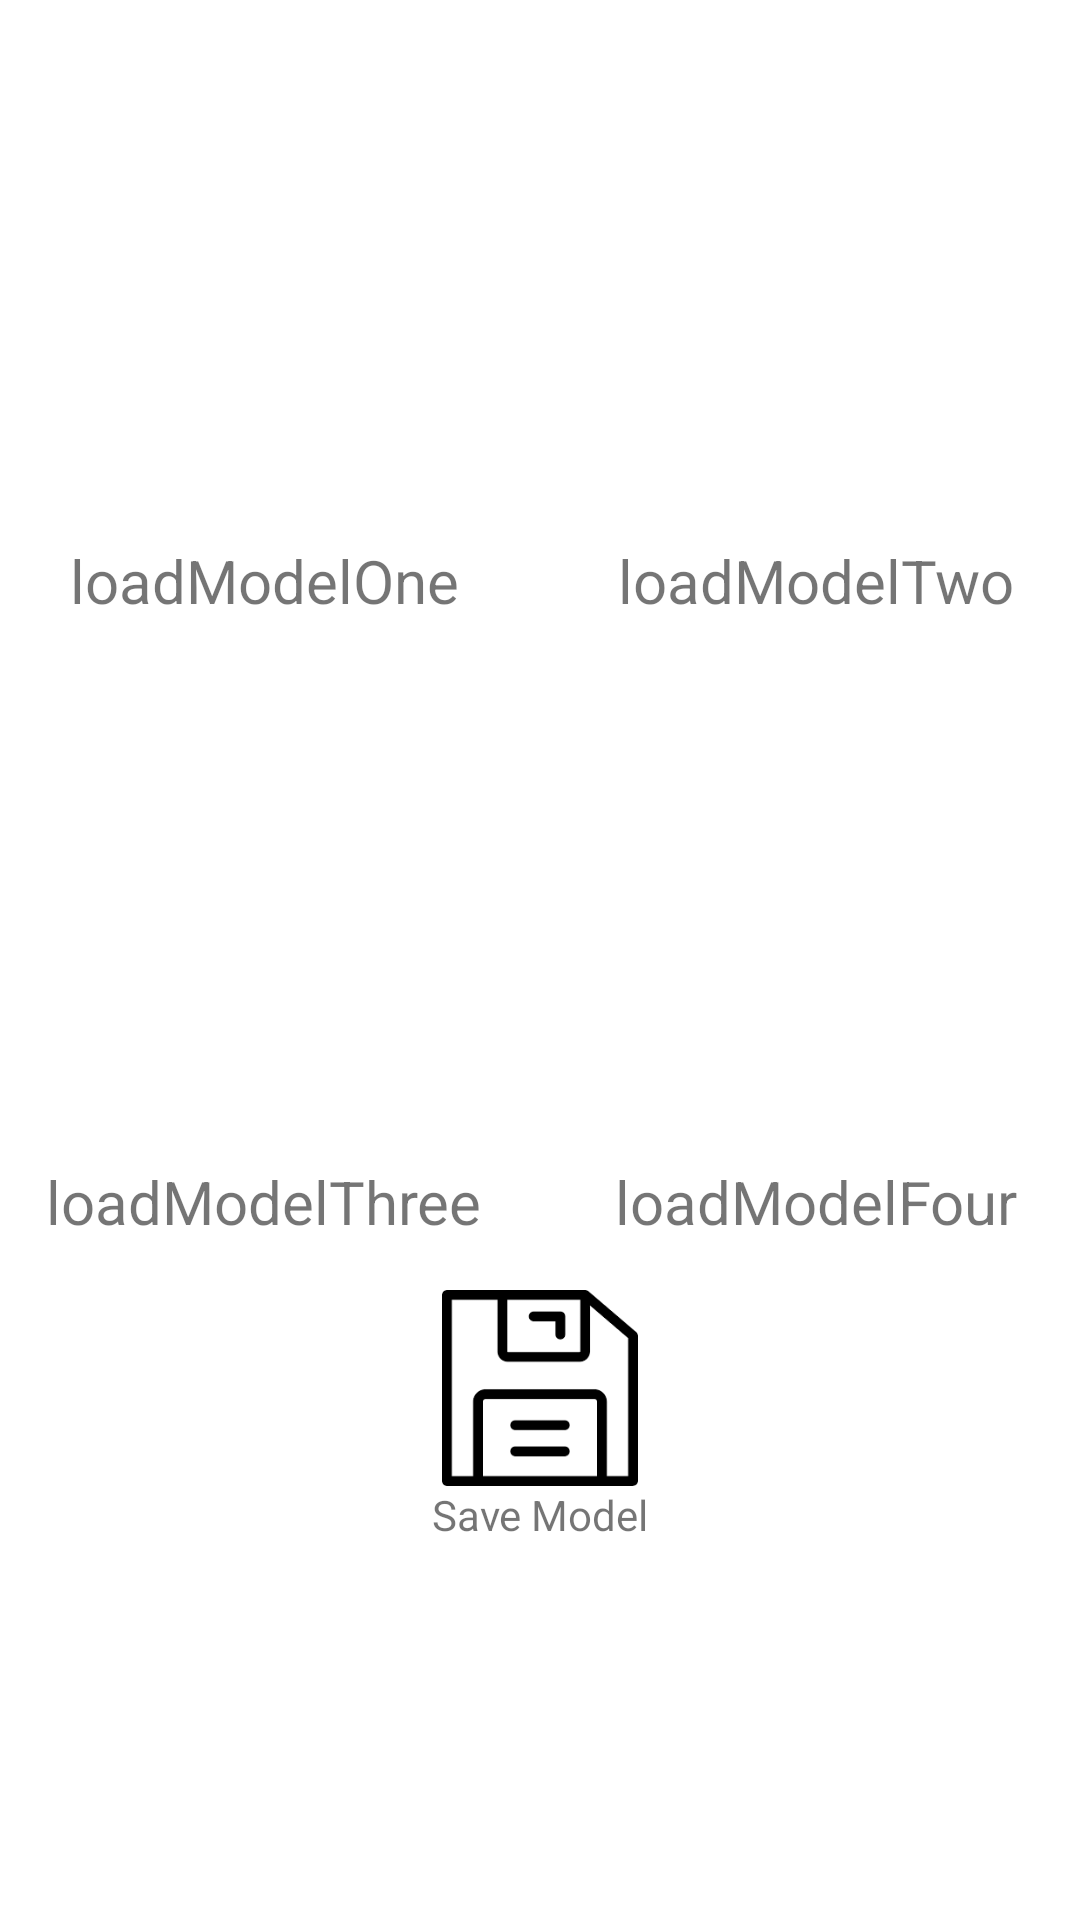

Screen size 1080x1920. Icon name, then its box in pixels as box(x1, y1, x2, y2):
floppydisk: box(442, 1290, 638, 1486)
